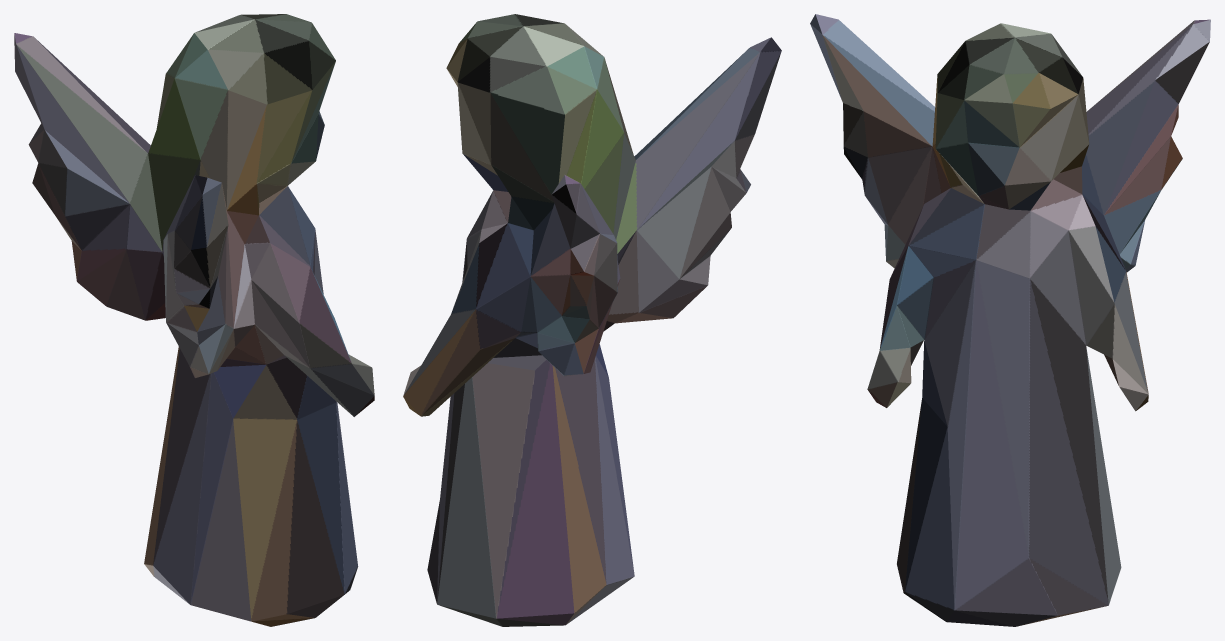
Rendered from angel.fbx.
The picture shows the model from 3 angles, left to right: view 1: azimuth 30°, elevation 25°; view 2: azimuth 150°, elevation 25°; view 3: azimuth 270°, elevation 25°; orthographic projection.
Visible parts, largest first — view 1: Mesh_0; view 2: Mesh_0; view 3: Mesh_0.
Part boxes in pixels (x1=…): Mesh_0: x1=14, y1=14, x2=374, y2=626; Mesh_0: x1=403, y1=14, x2=781, y2=626; Mesh_0: x1=810, y1=14, x2=1210, y2=626.
Bounding box in the file's own units: 50.89 × 119 × 76.76.
Materials: 1 (1 with a texture image).
